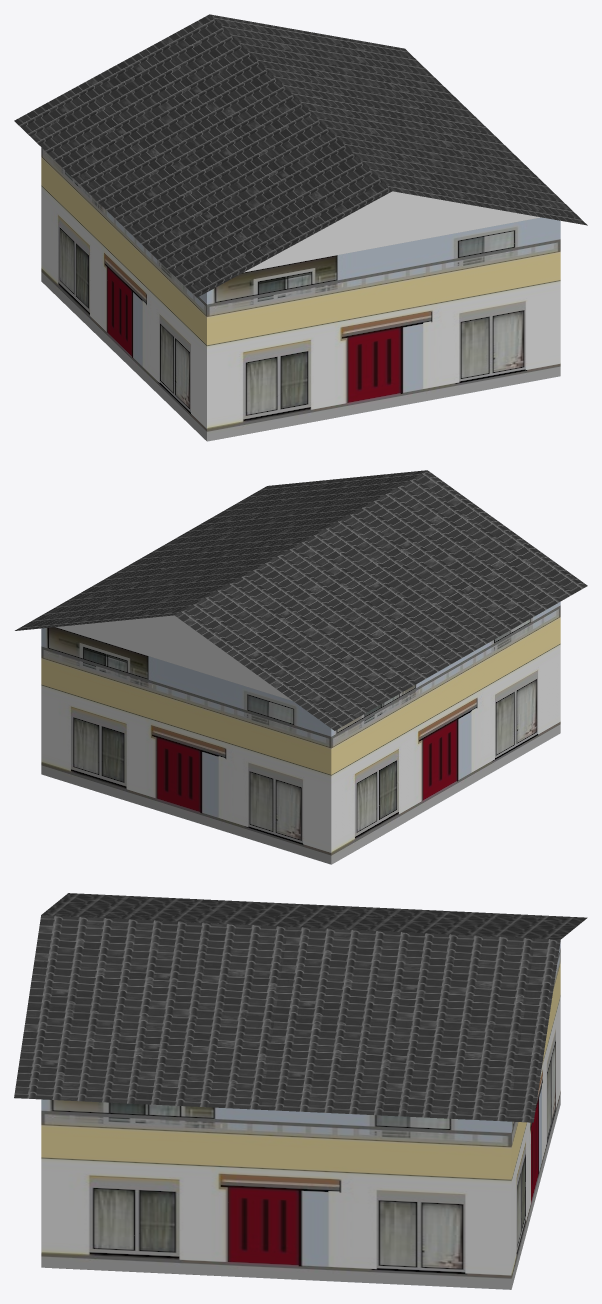
3 renders of one model, top to bottom at view 1: azimuth 30°, elevation 25°; view 2: azimuth 150°, elevation 25°; view 3: azimuth 270°, elevation 25°, orthographic. The views are drawn at different scales.
Visible parts, largest first — view 1: CityEngineMaterial_16_m, CityEngineMaterial_15_m, CityEngineMaterial_3_m; view 2: CityEngineMaterial_15_m, CityEngineMaterial_16_m, CityEngineMaterial_3_m; view 3: CityEngineMaterial_16_m, CityEngineMaterial_15_m.
Part boxes in pixels (x1=…): CityEngineMaterial_16_m: x1=14, y1=14, x2=587, y2=297; CityEngineMaterial_15_m: x1=41, y1=147, x2=560, y2=441; CityEngineMaterial_3_m: x1=244, y1=191, x2=540, y2=272; CityEngineMaterial_15_m: x1=41, y1=602, x2=560, y2=864; CityEngineMaterial_16_m: x1=15, y1=470, x2=587, y2=730; CityEngineMaterial_3_m: x1=56, y1=615, x2=292, y2=700; CityEngineMaterial_16_m: x1=14, y1=893, x2=587, y2=1122; CityEngineMaterial_15_m: x1=41, y1=942, x2=560, y2=1289.
Size of the model in its own units: 21.85 by 11.48 by 23.08.
